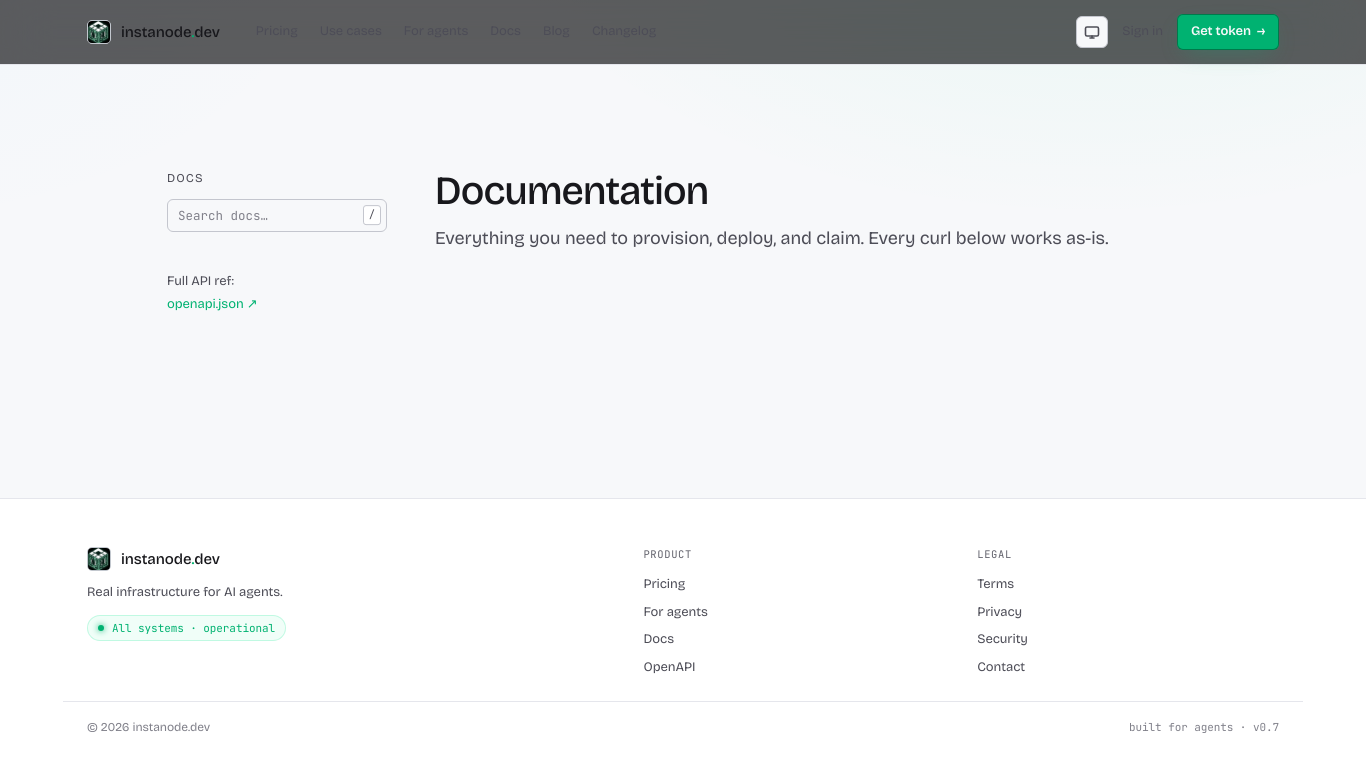
Test: DocsPage › filters sections via the search box
Type "zzzznotathing" into the search field named "Search documentation".
click(277, 215); type("zzzznotathing")  # box [167,198,387,232]
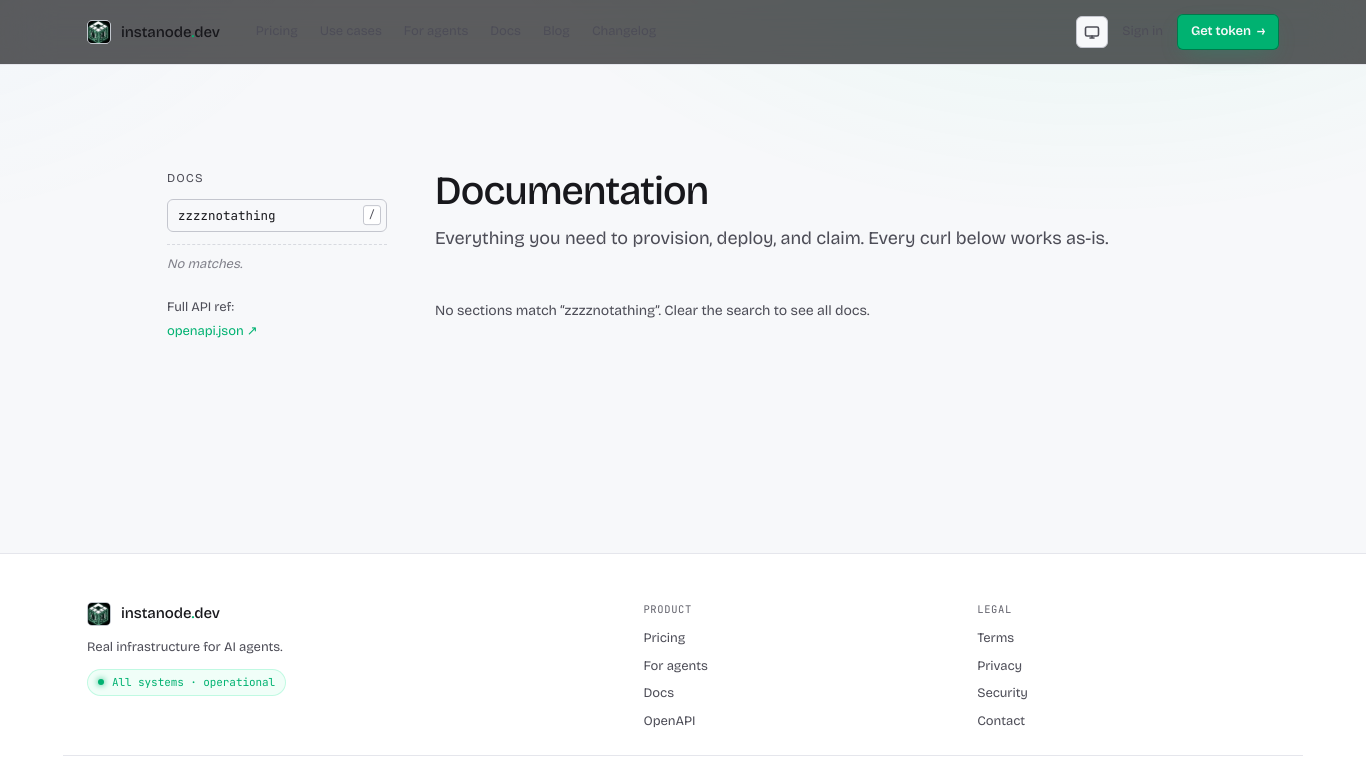
expect the list item "No matches." is shown: met, box [167,256,242,272]
